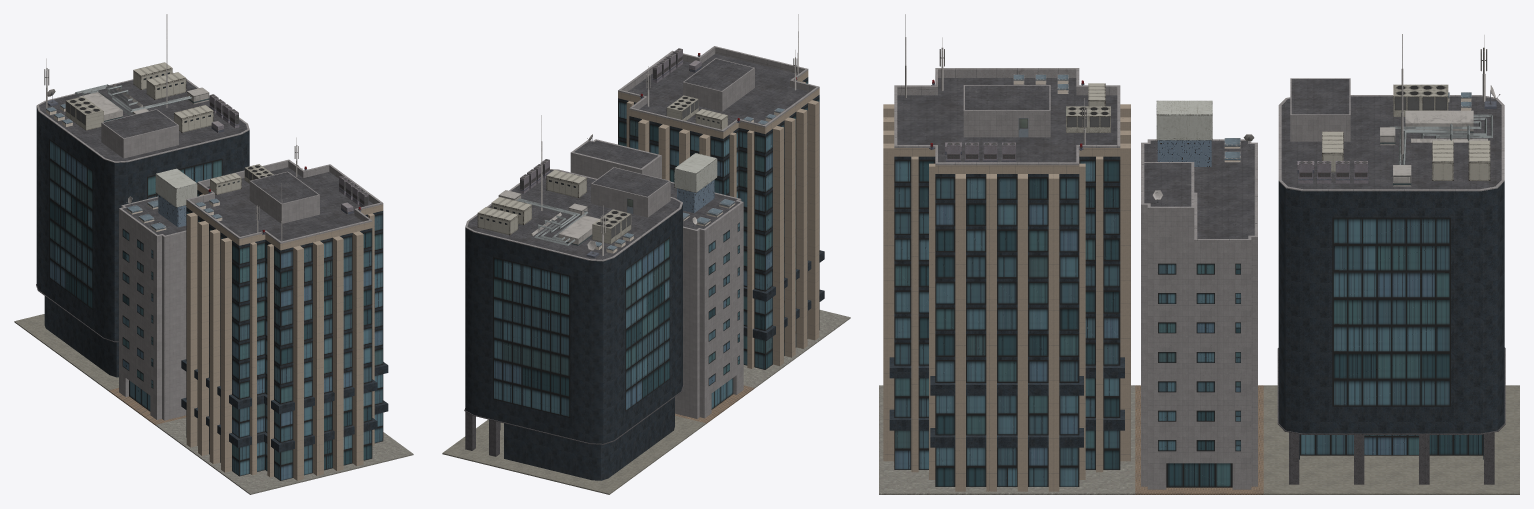
File: jctlowBldSetG.fbx
3 views of the same model, side by side, from view 1: azimuth 30°, elevation 25°; view 2: azimuth 150°, elevation 25°; view 3: azimuth 270°, elevation 25° (orthographic). The views are drawn at different scales.
Parts seen in each view (by area): view 1: jctlowBldSetG; view 2: jctlowBldSetG; view 3: jctlowBldSetG.
Boxes of the visible parts, x1,y1,x2,y2 form: jctlowBldSetG: (14,14,413,494); jctlowBldSetG: (442,14,850,494); jctlowBldSetG: (879,14,1519,494).
Bounding box in the file's own units: 2400 × 4393 × 6000.
Materials: 13 (13 with a texture image).
